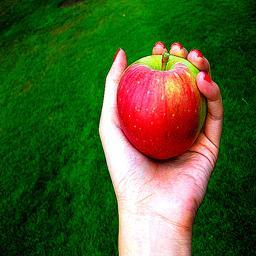apple: (117, 53, 207, 161)
